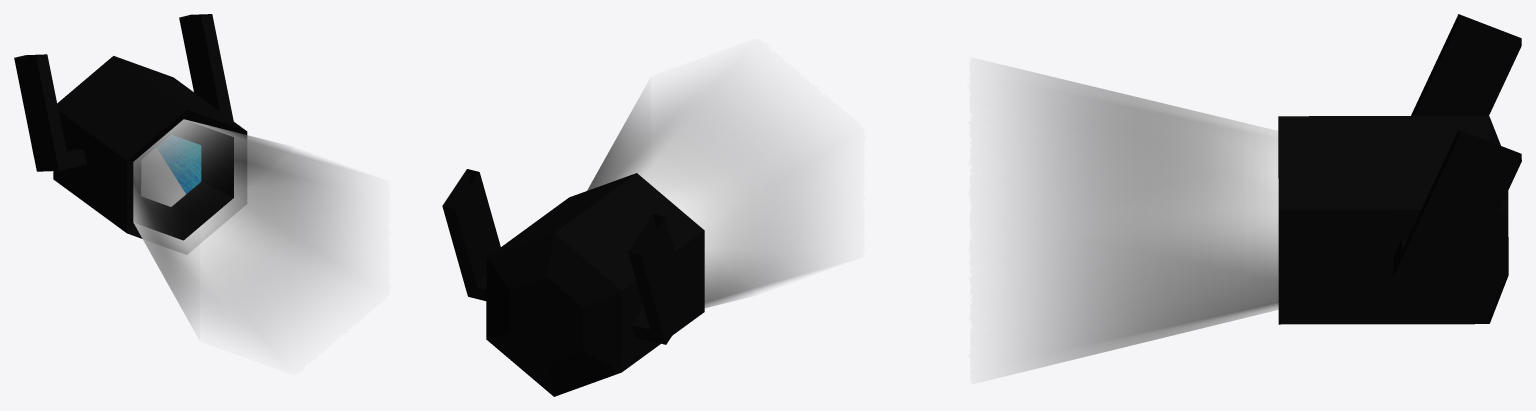
Rendered from block-chain-light-art.glb.
The picture shows the model from 3 angles, left to right: view 1: azimuth 30°, elevation 25°; view 2: azimuth 150°, elevation 25°; view 3: azimuth 270°, elevation 25°; orthographic projection. The views are drawn at different scales.
Visible parts, largest first — view 1: BlockChain_Light_Art; view 2: BlockChain_Light_Art; view 3: BlockChain_Light_Art.
Part boxes in pixels (box(x1,y1,x2,y2)): BlockChain_Light_Art: box(14, 14, 353, 343); BlockChain_Light_Art: box(442, 73, 823, 396); BlockChain_Light_Art: box(1006, 14, 1521, 374).
Size of the model in its own units: 0.4002 by 0.4621 by 0.7157.
3 materials, 3 textured.
